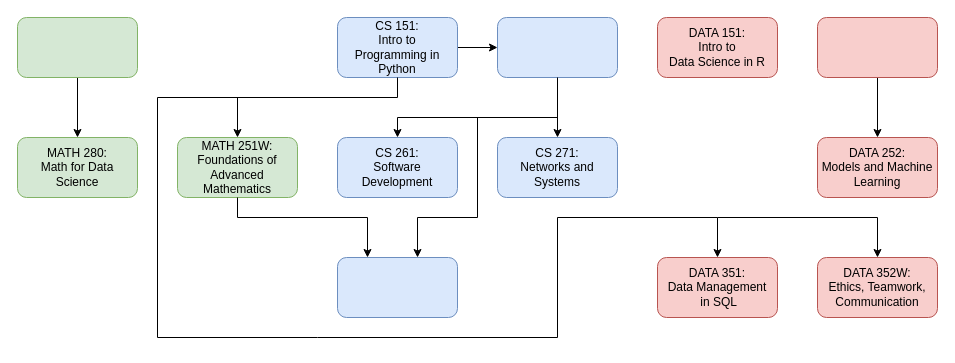
The diagram is 955 pixels wide and 363 high, and some of its shapes have lost their labels. Each missing label, with the centre of its shape:
"<Calculus>" belongs at point (77, 47).
"CS 152: Data Structures" belongs at point (557, 47).
"CS 351: Analysis of Algorithms" belongs at point (397, 287).
"DATA 152: Inferential Statistics" belongs at point (877, 47).
